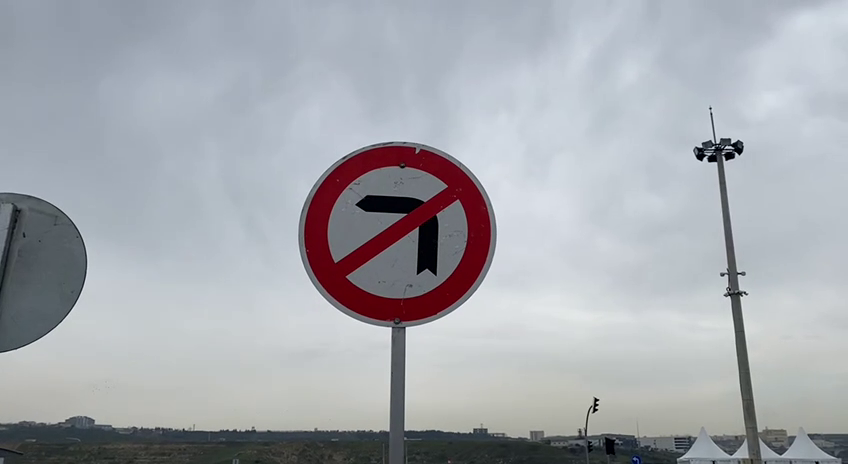noTurnLeft: (296, 139, 496, 328)
